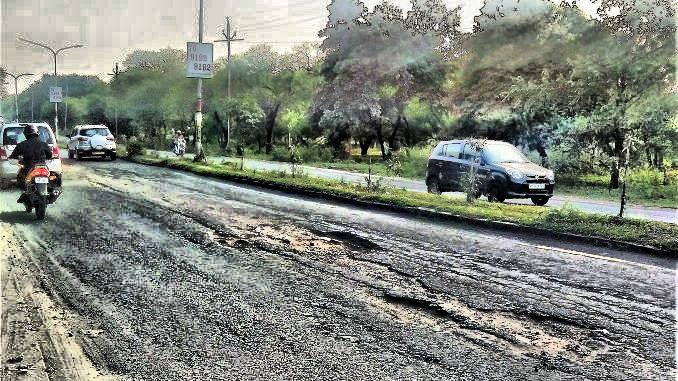pothole: (460, 308, 584, 346), (379, 293, 449, 328), (308, 227, 378, 255)
